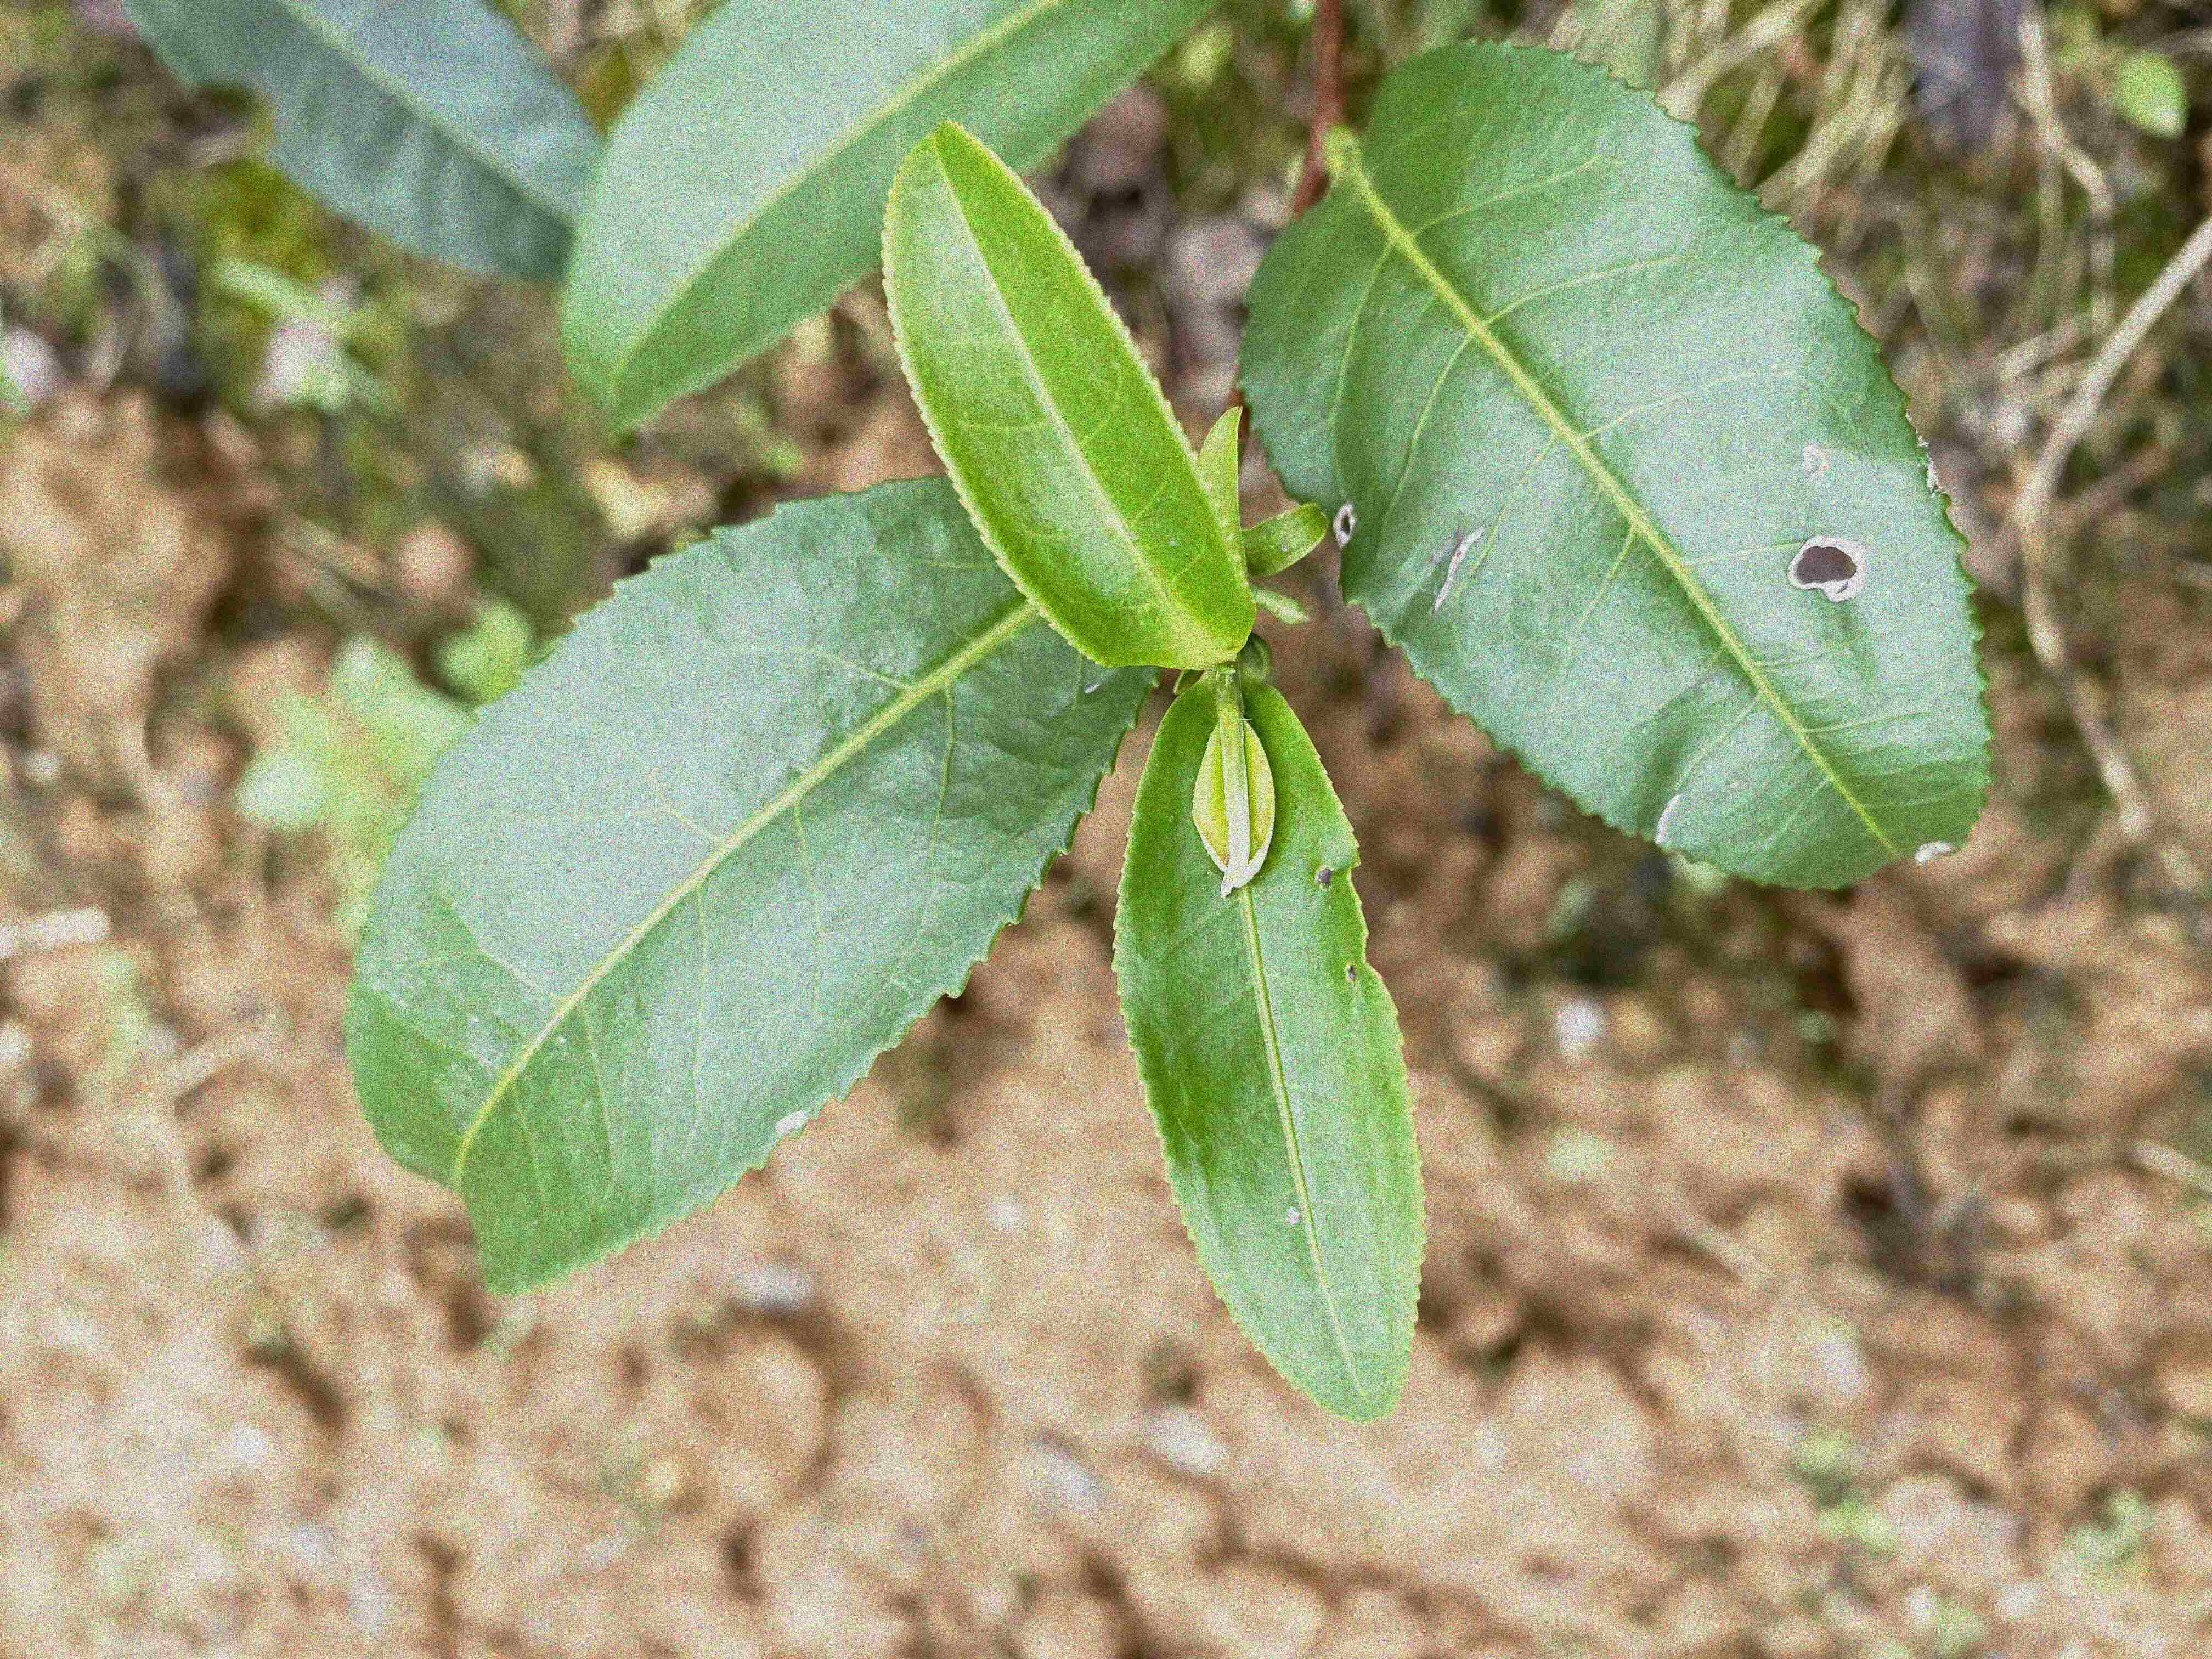chihuo_low: (1240, 35, 1994, 894), (113, 2, 610, 284)
healthy: (880, 122, 1254, 669)
tanju_low: (1111, 673, 1428, 1425)
